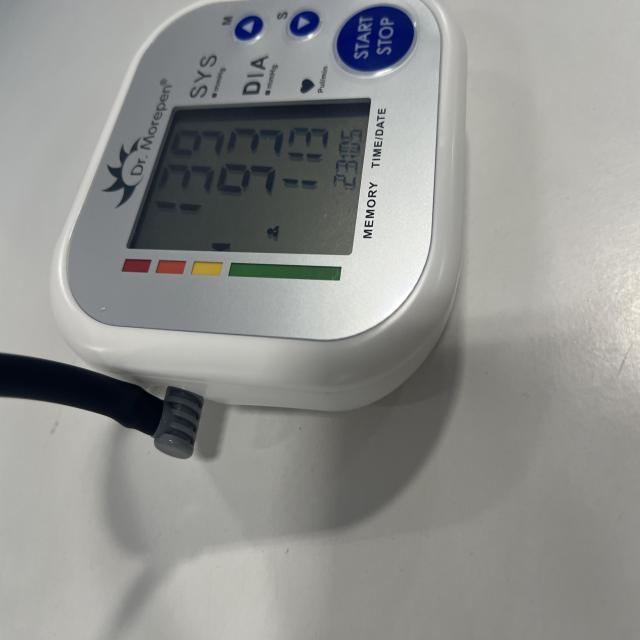bp: (48, 0, 469, 424)
